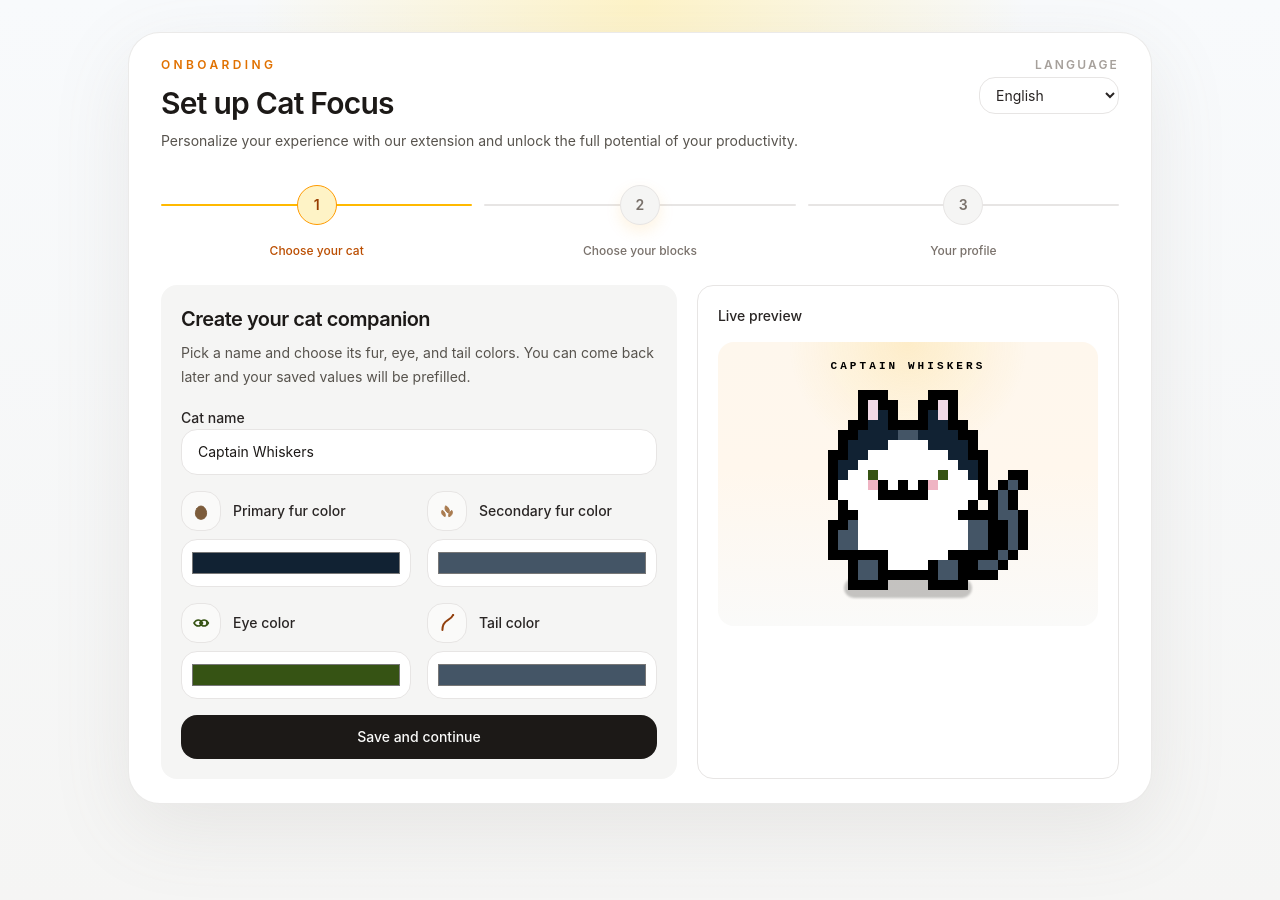
onboarding flow › updates the cat name preview in real time
Replace the text in the field showing "Captain Whiskers" with "Luna Ray" at (419, 452), box x1=181 y1=429 x2=657 y2=475
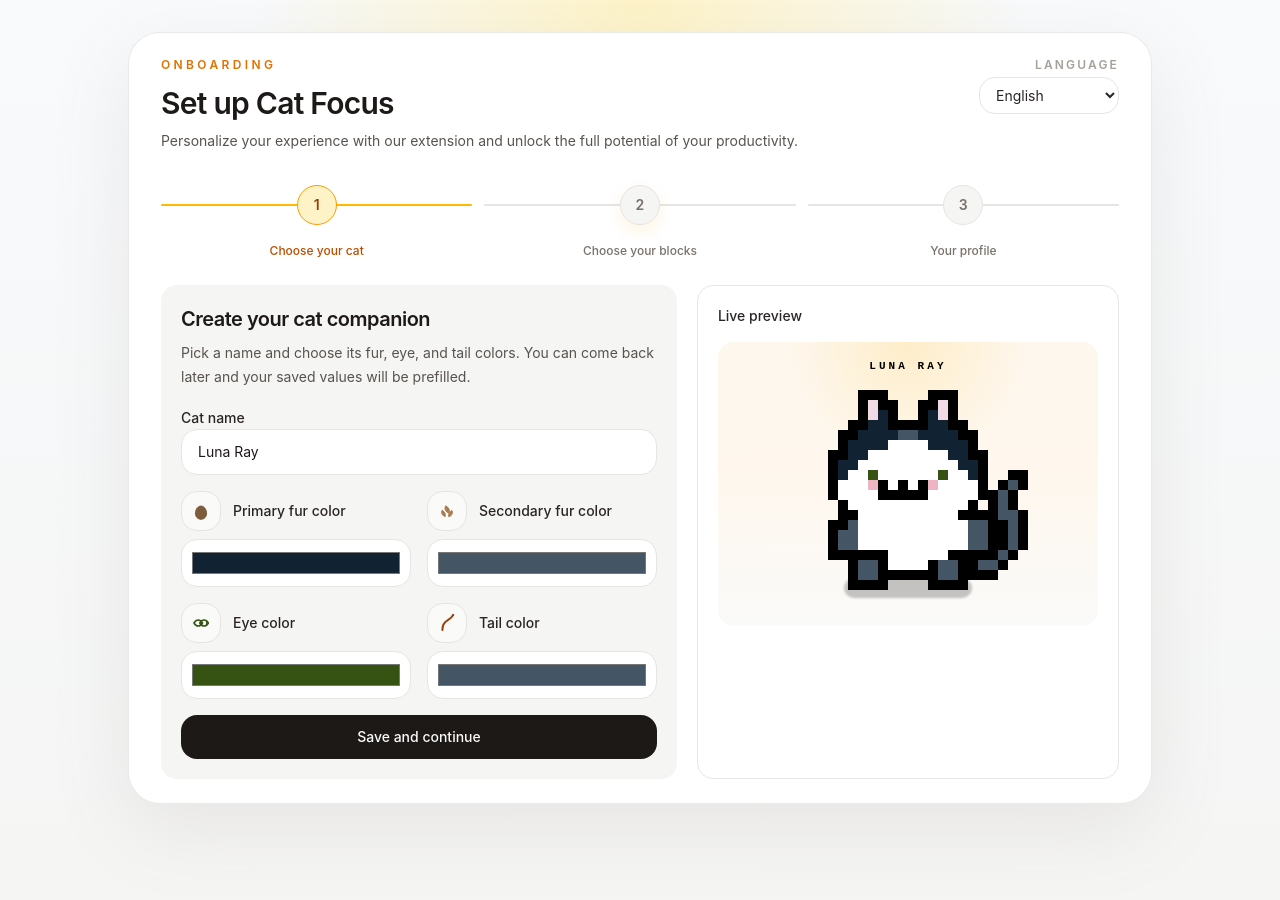
Result: the text "Luna Ray" is shown at x1=869 y1=358 x2=947 y2=378
